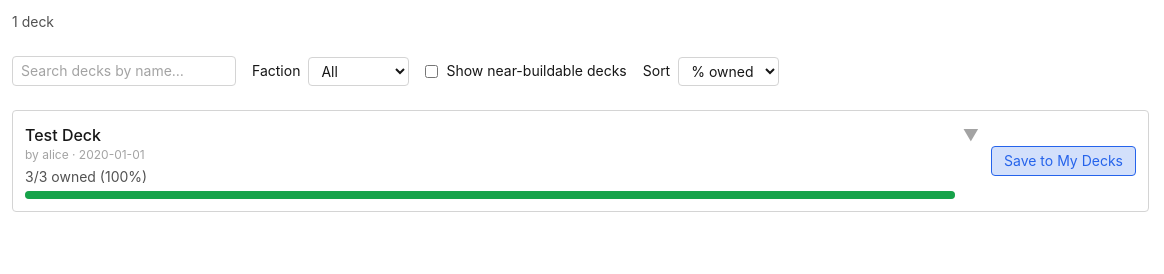
it: DiscoverSection › expanding a deck shows its card list
The image size is (1164, 274).
Click the button "Test Deck by alice · 2020-01-01 3/3 owned (100%) ▼" at (63, 135), box [25, 123, 979, 199]
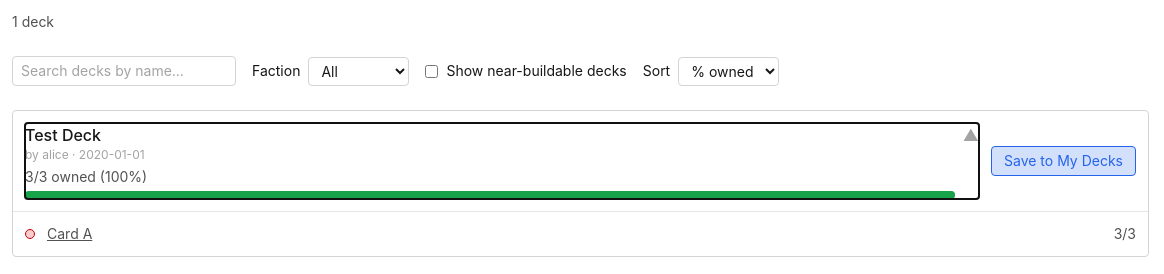
Expected: the button "Card A" is shown, [47, 224, 92, 244]
